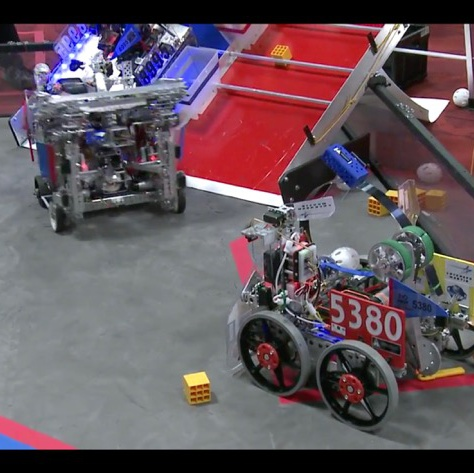robot: (225, 139, 474, 431), (24, 60, 191, 233), (53, 19, 185, 85)
